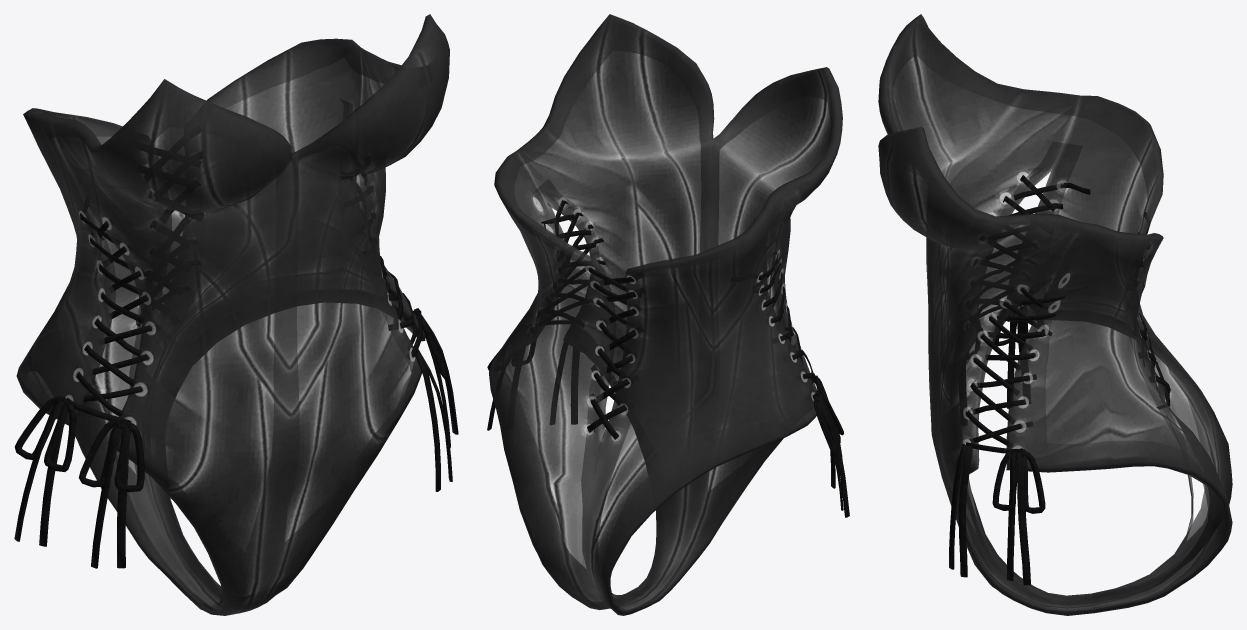
Rendered from corset.glb.
3 views of the same model, side by side, from view 1: azimuth 30°, elevation 25°; view 2: azimuth 150°, elevation 25°; view 3: azimuth 270°, elevation 25° (orthographic). The views are drawn at different scales.
Parts seen in each view (by area): view 1: Body_part.050; view 2: Body_part.050; view 3: Body_part.050.
Boxes of the visible parts, left/top/right/bottom form: Body_part.050: left=14, top=14, right=458, bottom=615; Body_part.050: left=487, top=14, right=849, bottom=615; Body_part.050: left=878, top=14, right=1232, bottom=615.
Bounding box in the file's own units: 1.44 × 1.94 × 1.15.
1 material, 1 textured.
